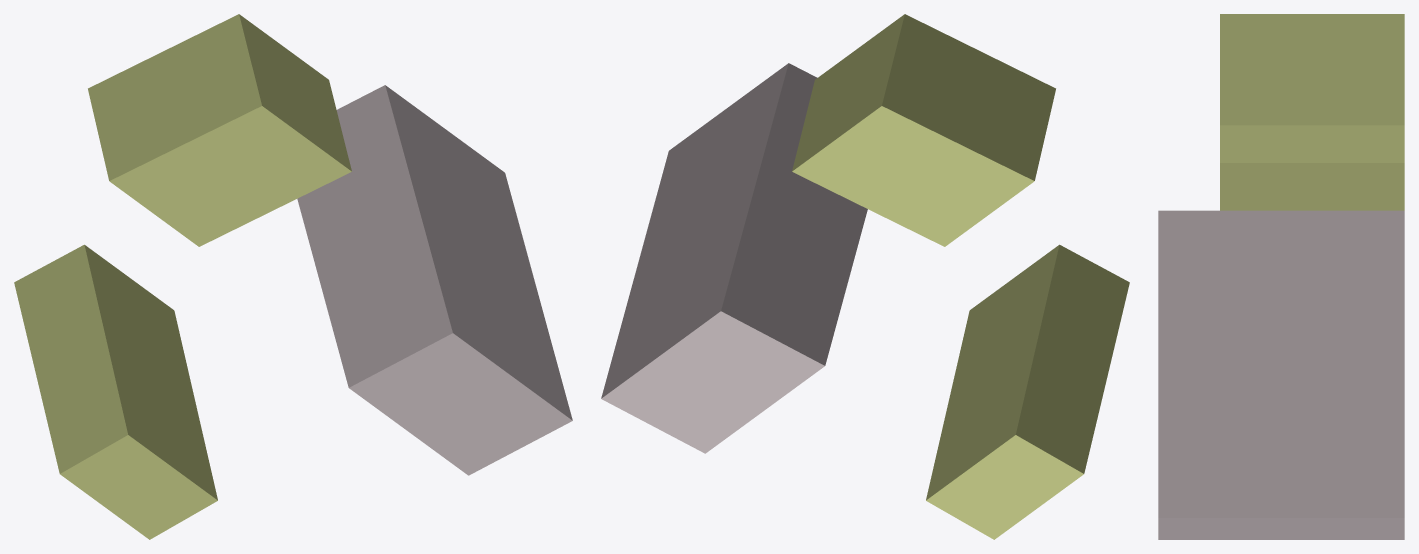
3 views of the same model, side by side, from view 1: azimuth 30°, elevation 25°; view 2: azimuth 150°, elevation 25°; view 3: azimuth 270°, elevation 25° (orthographic). The views are drawn at different scales.
Visible parts, largest first — view 1: 0_1_2_0_3_3_0_3_2_1; view 2: 0_1_2_0_3_3_0_3_2_1; view 3: 0_1_2_0_3_3_0_3_2_1.
Part boxes in pixels (x1,y1,x2,y2): 0_1_2_0_3_3_0_3_2_1: (14, 14, 572, 539); 0_1_2_0_3_3_0_3_2_1: (601, 14, 1129, 539); 0_1_2_0_3_3_0_3_2_1: (1158, 14, 1404, 539).
Size of the model in its own units: 25.36 by 22.99 by 12.
